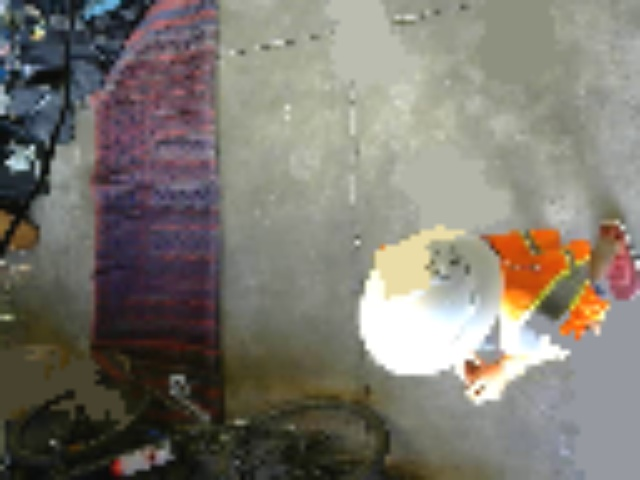eight: (418, 239, 470, 281)
